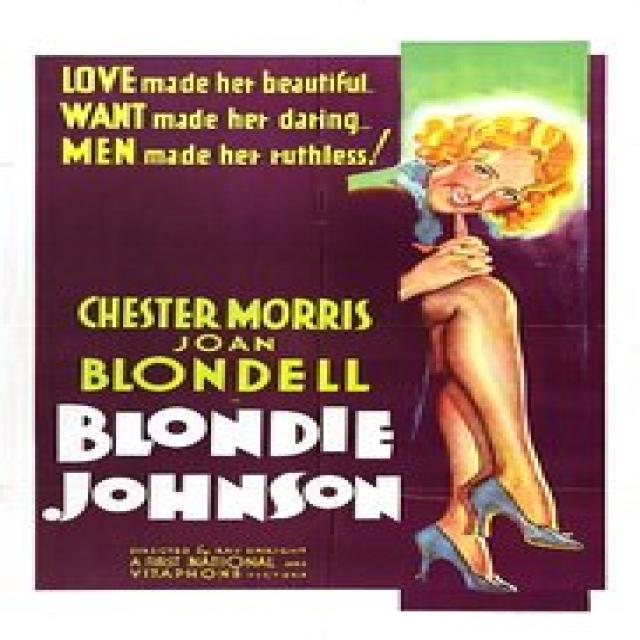movie-judul: (48, 258, 407, 586), (41, 60, 398, 176)
picture: (401, 48, 601, 597)
